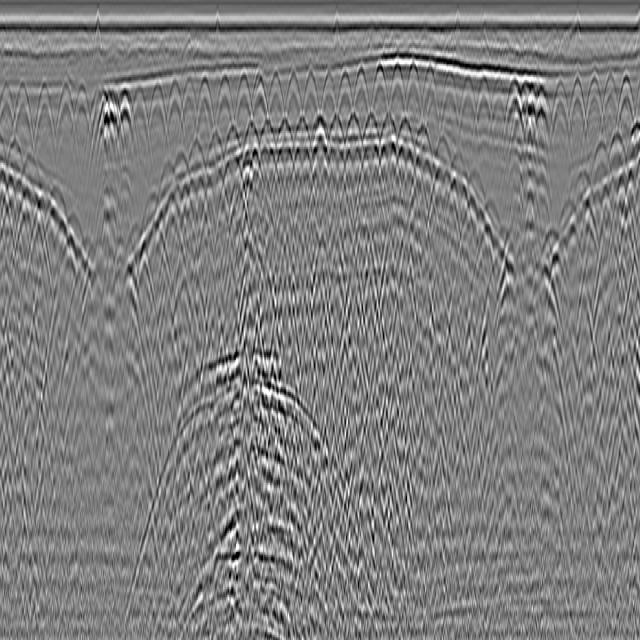hyperbola: (230, 59, 262, 154), (563, 68, 593, 168), (162, 74, 190, 178), (473, 61, 493, 182), (372, 53, 396, 152), (456, 62, 478, 165), (352, 54, 377, 141), (405, 50, 426, 148), (129, 74, 150, 172), (194, 61, 214, 162), (146, 71, 166, 170), (335, 58, 359, 140), (72, 68, 90, 177), (11, 71, 34, 154), (548, 71, 570, 152), (54, 78, 74, 167), (418, 55, 438, 144), (616, 58, 636, 147), (389, 50, 406, 153), (490, 68, 507, 167), (34, 80, 54, 164), (213, 62, 233, 146), (247, 62, 268, 142), (438, 74, 458, 154), (178, 74, 196, 160), (282, 62, 302, 136), (583, 74, 604, 144), (532, 81, 552, 154), (597, 71, 619, 136), (266, 68, 284, 144), (302, 61, 318, 144), (323, 55, 336, 152), (0, 73, 15, 155), (118, 87, 132, 147)
